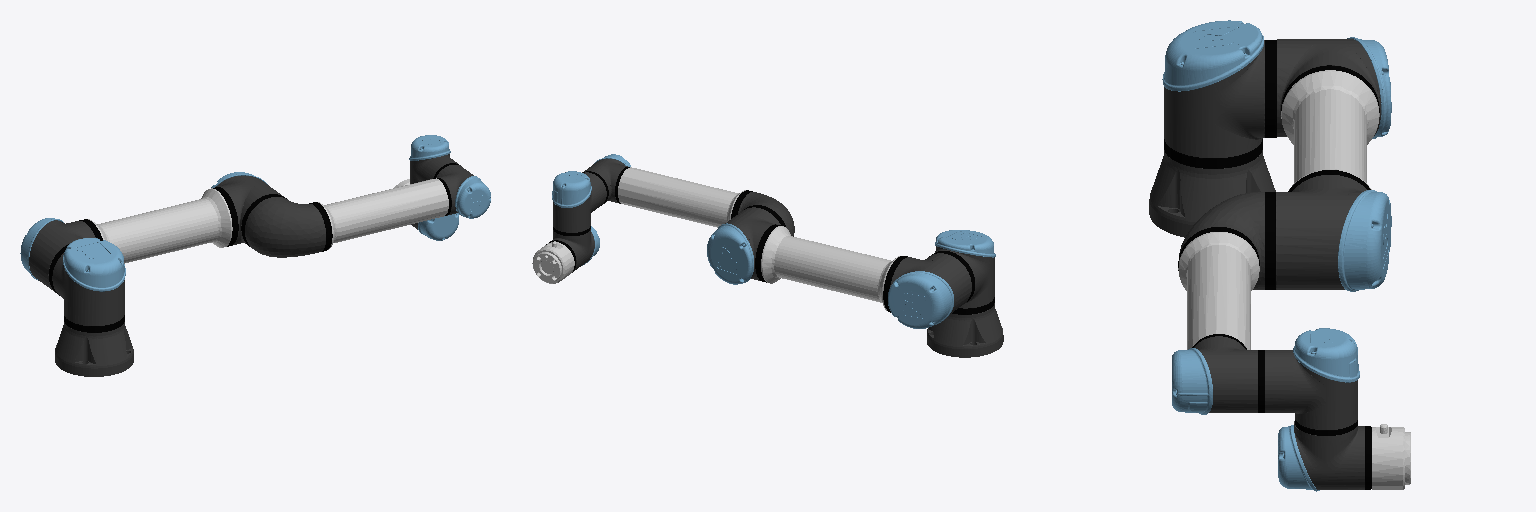
URDF robot description (ur5e):
<?xml version="1.0" ?>
<robot name="ur5e">
  <link name="base_link">
    <visual>
      <origin rpy="0 0 3.14159265359" xyz="0 0 0"/>
      <geometry>
        <mesh filename="model://intrinsic/robot_definitions/ur/ur5e/visual/base.dae"/>
      </geometry>
    </visual>
    <collision>
      <origin rpy="0 0 3.14159265359" xyz="0 0 0"/>
      <geometry>
        <mesh filename="model://intrinsic/robot_definitions/ur/ur5e/collision/base.wrapped.1cm.stl"/>
      </geometry>
    </collision>
    <inertial>
      <mass value="4.0"/>
      <origin rpy="0 0 0" xyz="0.0 0.0 0.0"/>
      <inertia ixx=".01" ixy="0" ixz="0" iyy=".01" iyz="0" izz=".01"/>
    </inertial>
  </link>
  <joint name="shoulder_pan_joint" type="revolute">
    <parent link="base_link"/>
    <child link="shoulder_link"/>
    <origin rpy="0 0 0" xyz="0 0 0.1625"/>
    <axis xyz="0 0 1"/>
    <limit effort="150.0" lower="-6.2831853" upper="6.2831853" velocity="3.1415927"/>
  </joint>
  <link name="shoulder_link">
    <visual>
      <origin rpy="0 0 0" xyz="0 0 0"/>
      <geometry>
        <mesh filename="model://intrinsic/robot_definitions/ur/ur5e/visual/shoulder.dae"/>
      </geometry>
    </visual>
    <collision>
      <origin rpy="0 0 0" xyz="0 0 0"/>
      <geometry>
        <mesh filename="model://intrinsic/robot_definitions/ur/ur5e/collision/shoulder.wrapped.1cm.stl"/>
      </geometry>
    </collision>
    <inertial>
      <mass value="3.761"/>
      <origin rpy="0 0 0" xyz="0.0 0.0 0.0"/>
      <inertia ixx=".01" ixy="0" ixz="0" iyy=".01" iyz="0" izz=".01"/>
    </inertial>
  </link>
  <joint name="shoulder_lift_joint" type="revolute">
    <parent link="shoulder_link"/>
    <child link="upper_arm_link"/>
    <origin rpy="0 0 0" xyz="0 0 0"/>
    <axis xyz="0 1 0"/>
    <limit effort="150.0" lower="-4.1" upper="0.96" velocity="3.1415927"/>
  </joint>
  <link name="upper_arm_link">
    <visual>
      <origin rpy="0 1.57079632679 0" xyz="0 0.138 0"/>
      <geometry>
        <mesh filename="model://intrinsic/robot_definitions/ur/ur5e/visual/upperarm.dae"/>
      </geometry>
    </visual>
    <collision>
      <origin rpy="0 1.57079632679 0" xyz="0 0.138 0"/>
      <geometry>
        <mesh filename="model://intrinsic/robot_definitions/ur/ur5e/collision/upperarm.wrapped.1cm.stl"/>
      </geometry>
    </collision>
    <inertial>
      <mass value="8.058"/>
      <origin rpy="0 0 0" xyz="0.0 0.0 0.28"/>
      <inertia ixx=".01" ixy="0" ixz="0" iyy=".01" iyz="0" izz=".01"/>
    </inertial>
  </link>
  <joint name="elbow_joint" type="revolute">
    <parent link="upper_arm_link"/>
    <child link="forearm_link"/>
    <origin rpy="0 0 0" xyz="0.425 0 0"/>
    <axis xyz="0 1 0"/>
    <limit effort="150.0" lower="-2.8" upper="2.8" velocity="3.1415927"/>
  </joint>
  <link name="forearm_link">
    <visual>
      <origin rpy="0 1.57079632679 0" xyz="0 0.007 0"/>
      <geometry>
        <mesh filename="model://intrinsic/robot_definitions/ur/ur5e/visual/forearm.dae"/>
      </geometry>
    </visual>
    <collision>
      <origin rpy="0 1.57079632679 0" xyz="0 0.007 0"/>
      <geometry>
        <mesh filename="model://intrinsic/robot_definitions/ur/ur5e/collision/forearm.wrapped.1cm.stl"/>
      </geometry>
    </collision>
    <inertial>
      <mass value="2.846"/>
      <origin rpy="0 0 0" xyz="0.0 0.0 0.25"/>
      <inertia ixx=".01" ixy="0" ixz="0" iyy=".01" iyz="0" izz=".01"/>
    </inertial>
  </link>
  <joint name="wrist_1_joint" type="revolute">
    <parent link="forearm_link"/>
    <child link="wrist_1_link"/>
    <origin rpy="0 0 0" xyz="0.3922 0 0"/>
    <axis xyz="0 1 0"/>
    <limit effort="28.0" lower="-6.2831853" upper="6.2831853" velocity="3.1415927"/>
  </joint>
  <link name="wrist_1_link">
    <visual>
      <origin rpy="0 3.14159265359 0" xyz="0 0.007 0"/>
      <geometry>
        <mesh filename="model://intrinsic/robot_definitions/ur/ur5e/visual/wrist1.dae"/>
      </geometry>
    </visual>
    <collision>
      <origin rpy="0 3.14159265359 0" xyz="0 0.007 0"/>
      <geometry>
        <mesh filename="model://intrinsic/robot_definitions/ur/ur5e/collision/wrist1.wrapped.1cm.stl"/>
      </geometry>
    </collision>
    <inertial>
      <mass value="1.37"/>
      <origin rpy="0 0 0" xyz="0.0 0.0 0.0"/>
      <inertia ixx=".01" ixy="0" ixz="0" iyy=".01" iyz="0" izz=".01"/>
    </inertial>
  </link>
  <joint name="wrist_2_joint" type="revolute">
    <parent link="wrist_1_link"/>
    <child link="wrist_2_link"/>
    <origin rpy="0 0 0" xyz="0 0.1333 -0.0997"/>
    <axis xyz="0 0 -1"/>
    <limit effort="28.0" lower="-6.2831853" upper="6.2831853" velocity="3.1415927"/>
  </joint>
  <link name="wrist_2_link">
    <visual>
      <origin rpy="0 3.14159265359 0" xyz="0 0 0.0997"/>
      <geometry>
        <mesh filename="model://intrinsic/robot_definitions/ur/ur5e/visual/wrist2.dae"/>
      </geometry>
    </visual>
    <collision>
      <origin rpy="0 3.14159265359 0" xyz="0 0 0.0997"/>
      <geometry>
        <mesh filename="model://intrinsic/robot_definitions/ur/ur5e/collision/wrist2.wrapped.1cm.stl"/>
      </geometry>
    </collision>
    <inertial>
      <mass value="1.3"/>
      <origin rpy="0 0 0" xyz="0 0 0"/>
      <inertia ixx=".01" ixy="0" ixz="0" iyy=".01" iyz="0" izz=".01"/>
    </inertial>
  </link>
  <joint name="wrist_3_joint" type="revolute">
    <parent link="wrist_2_link"/>
    <child link="wrist_3_link"/>
    <origin rpy="-1.57079632679 0 0" xyz="0.0 0.0996 0"/>
    <axis xyz="0 0 1"/>
    <limit effort="28.0" lower="-6.2831853" upper="6.2831853" velocity="3.1415927"/>
  </joint>
  <link name="wrist_3_link">
    <visual>
      <origin rpy="1.57079632679 0 0" xyz="0 -0.0005 -0.0996"/>
      <geometry>
        <mesh filename="model://intrinsic/robot_definitions/ur/ur5e/visual/wrist3.dae"/>
      </geometry>
    </visual>
    <collision>
      <origin rpy="1.57079632679 0 0" xyz="0 -0.0005 -0.0996"/>
      <geometry>
        <mesh filename="model://intrinsic/robot_definitions/ur/ur5e/collision/wrist3.wrapped.1cm.stl"/>
      </geometry>
    </collision>
    <inertial>
      <mass value="0.365"/>
      <origin rpy="0 0 0" xyz="0.0 0.0 0.0"/>
      <inertia ixx=".01" ixy="0" ixz="0" iyy=".01" iyz="0" izz=".01"/>
    </inertial>
  </link>
</robot>

--- What the picture shows (computed from the rendered views, not written in the file) ---
3 views of the same robot in one strip: view 1: azimuth 30°, elevation 25°; view 2: azimuth 150°, elevation 25°; view 3: azimuth 270°, elevation 25° (orthographic).
Robot: ur5e — 7 links, 6 joints (6 revolute); root link base_link; default pose: every joint at zero.
Visible links, largest first — view 1: forearm_link, upper_arm_link, shoulder_link, base_link, wrist_1_link, wrist_2_link; view 2: upper_arm_link, forearm_link, base_link, wrist_1_link, shoulder_link, wrist_3_link, wrist_2_link; view 3: upper_arm_link, forearm_link, shoulder_link, wrist_1_link, base_link, wrist_2_link, wrist_3_link.
Link boxes in pixels (x1,y1,x2,y2): forearm_link: [245, 163, 490, 257]; upper_arm_link: [20, 172, 286, 292]; shoulder_link: [49, 238, 125, 325]; base_link: [55, 315, 133, 376]; wrist_1_link: [409, 135, 460, 183]; wrist_2_link: [411, 213, 458, 240]; upper_arm_link: [707, 205, 971, 328]; forearm_link: [582, 154, 794, 236]; base_link: [927, 297, 1003, 357]; wrist_1_link: [552, 171, 606, 235]; shoulder_link: [929, 230, 995, 308]; wrist_3_link: [532, 241, 574, 283]; wrist_2_link: [546, 226, 599, 272]; upper_arm_link: [1265, 37, 1391, 291]; forearm_link: [1172, 192, 1264, 414]; shoulder_link: [1162, 20, 1276, 157]; wrist_1_link: [1265, 328, 1359, 435]; base_link: [1149, 139, 1275, 237]; wrist_2_link: [1278, 421, 1371, 491]; wrist_3_link: [1372, 424, 1410, 489].
Size in the robot's own frame: 0.932 by 0.3077 by 0.234 metres.
7 mesh visuals loaded from 7 distinct referenced files (7 Collada DAE).
